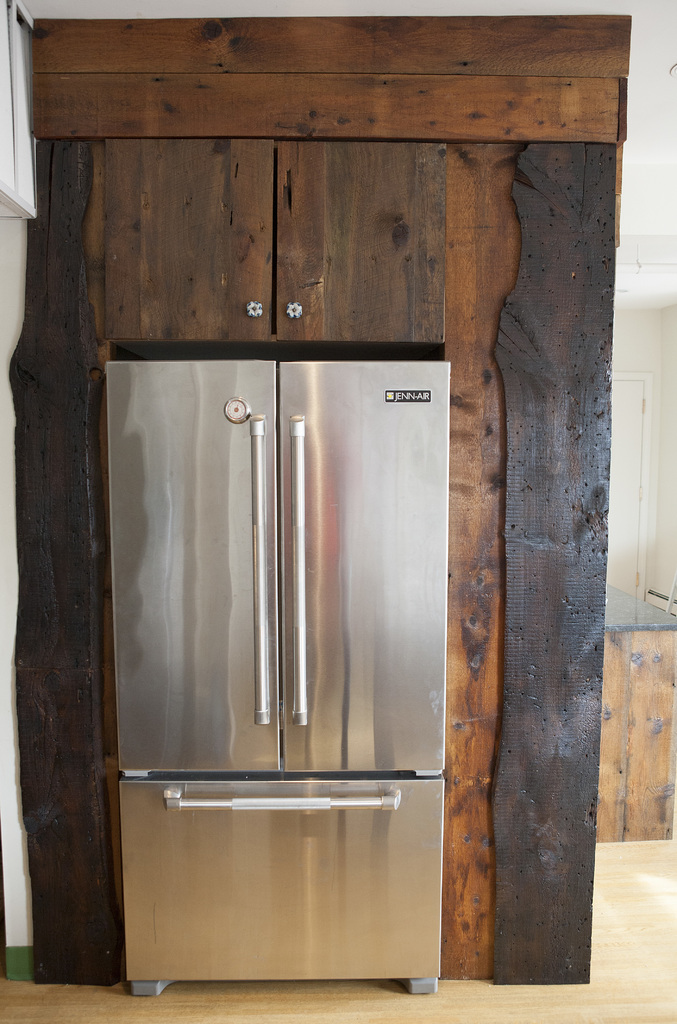handle: (168, 775, 406, 831), (244, 414, 277, 708), (283, 414, 312, 727)
refrigerator door: (280, 375, 441, 772), (112, 368, 277, 754), (133, 772, 440, 971)
